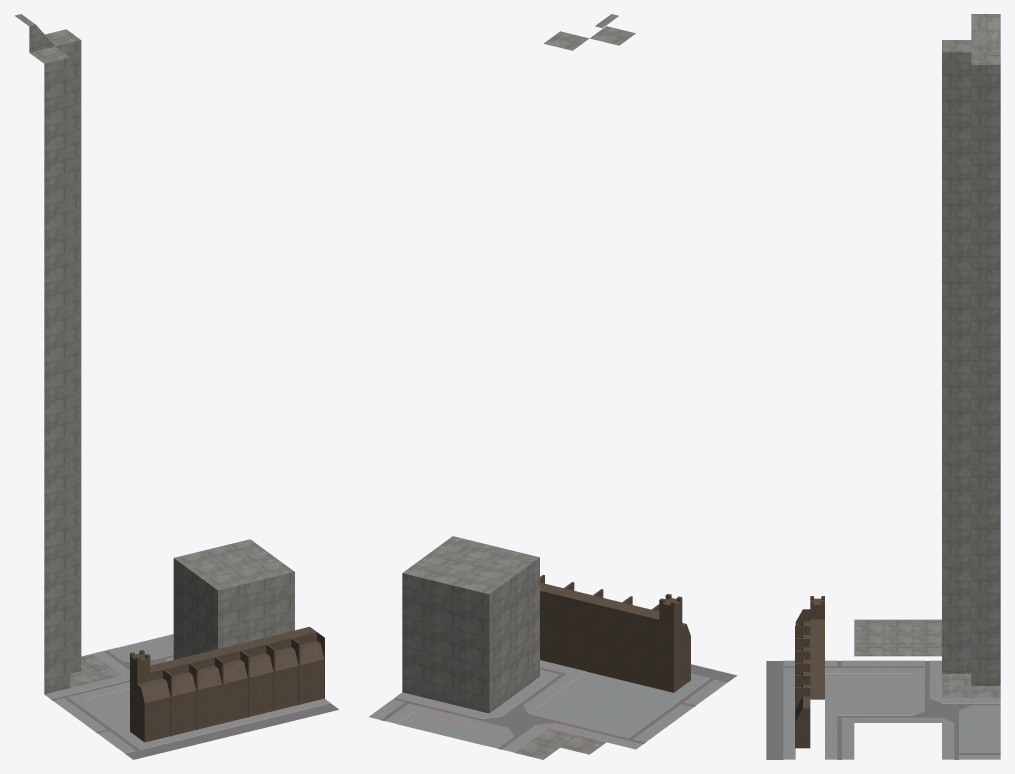
File: Section6.gltf
3 views of the same model, side by side, from view 1: azimuth 30°, elevation 25°; view 2: azimuth 150°, elevation 25°; view 3: azimuth 270°, elevation 25° (orthographic). The views are drawn at different scales.
Visible parts, largest first — view 1: Section6; view 2: Section6; view 3: Section6.
Boxes of the visible parts, x1,y1,x2,y2 form: Section6: [15, 14, 338, 759]; Section6: [369, 14, 737, 759]; Section6: [766, 14, 1000, 759].
Bounding box in the file's own units: 128 × 390 × 128.
Materials: 6 (4 with a texture image).
